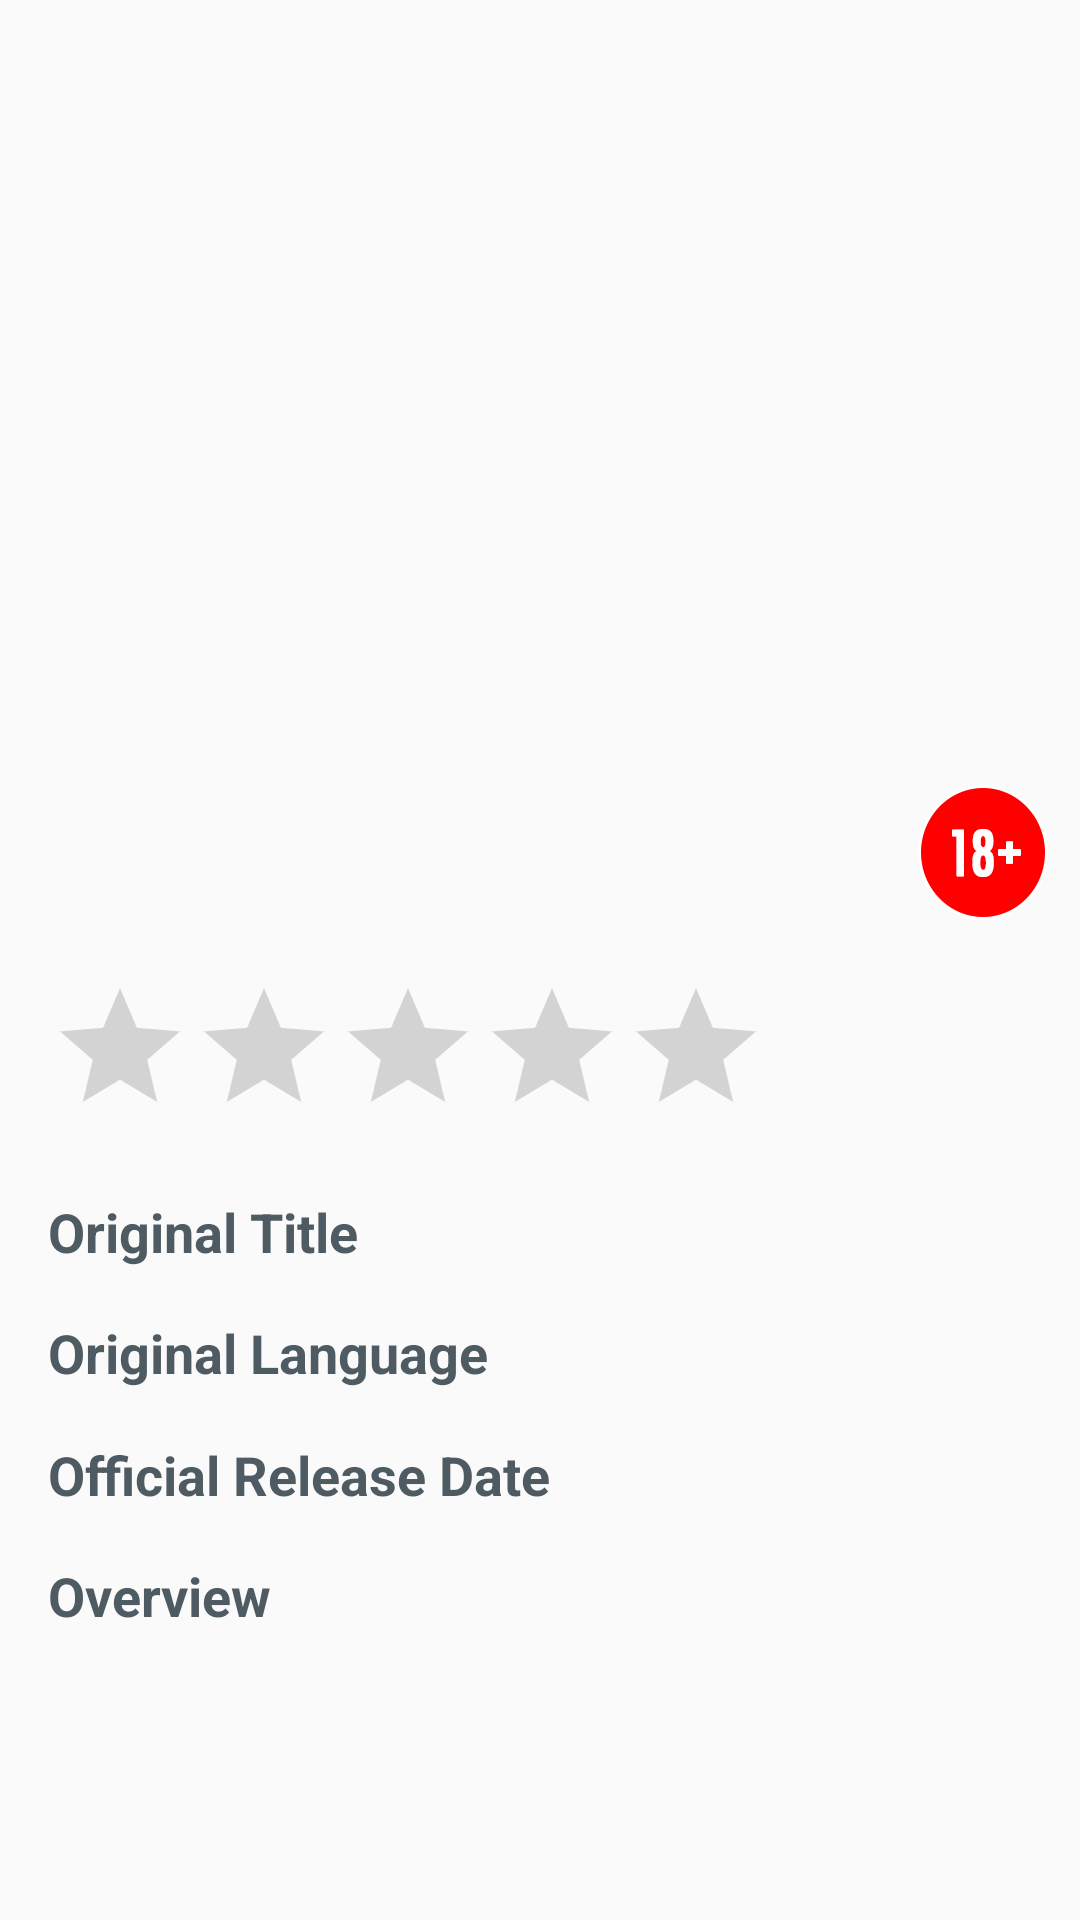

Icons on this 1080 × 1920 Android screen, each with the point to tap as point (x, y):
Age rating badge: point (983, 852)
